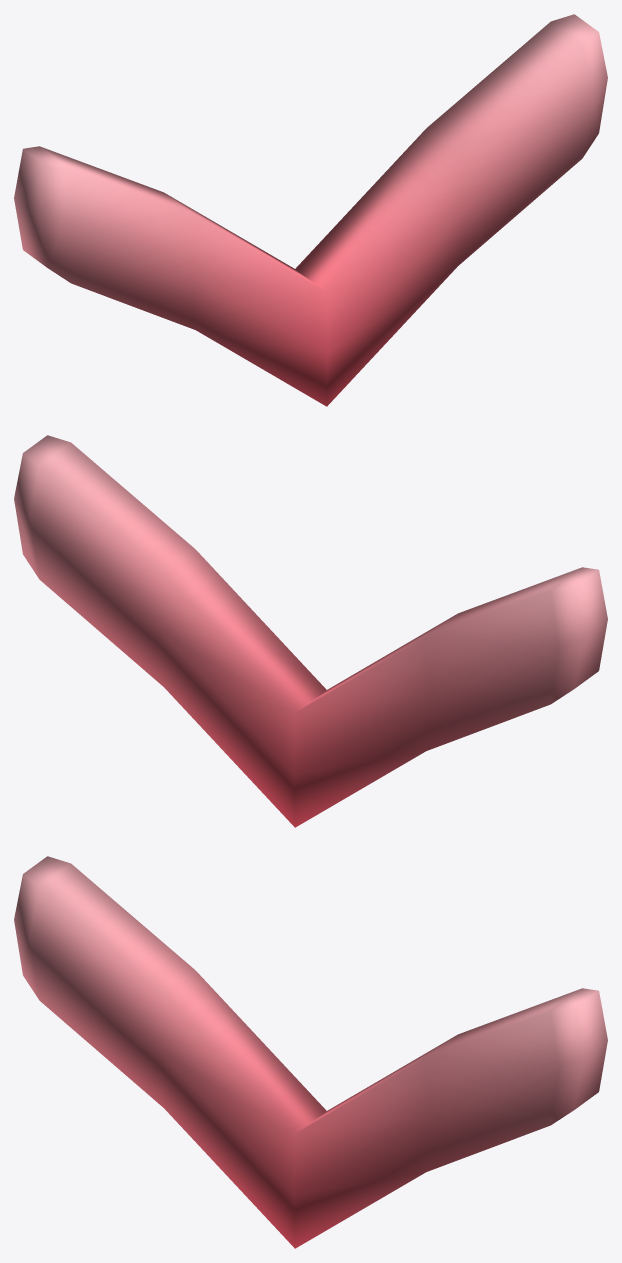
Rendered from Chevron.fbx.
3 renders of one model, top to bottom at view 1: azimuth 30°, elevation 25°; view 2: azimuth 150°, elevation 25°; view 3: azimuth 330°, elevation 25°, orthographic.
Visible parts, largest first — view 1: Chevron; view 2: Chevron; view 3: Chevron.
Boxes of the visible parts, x1=… form: Chevron: x1=14, y1=14, x2=607, y2=406; Chevron: x1=14, y1=435, x2=607, y2=827; Chevron: x1=14, y1=856, x2=607, y2=1248.
Bounding box in the file's own units: 115 × 58.75 × 11.92.
